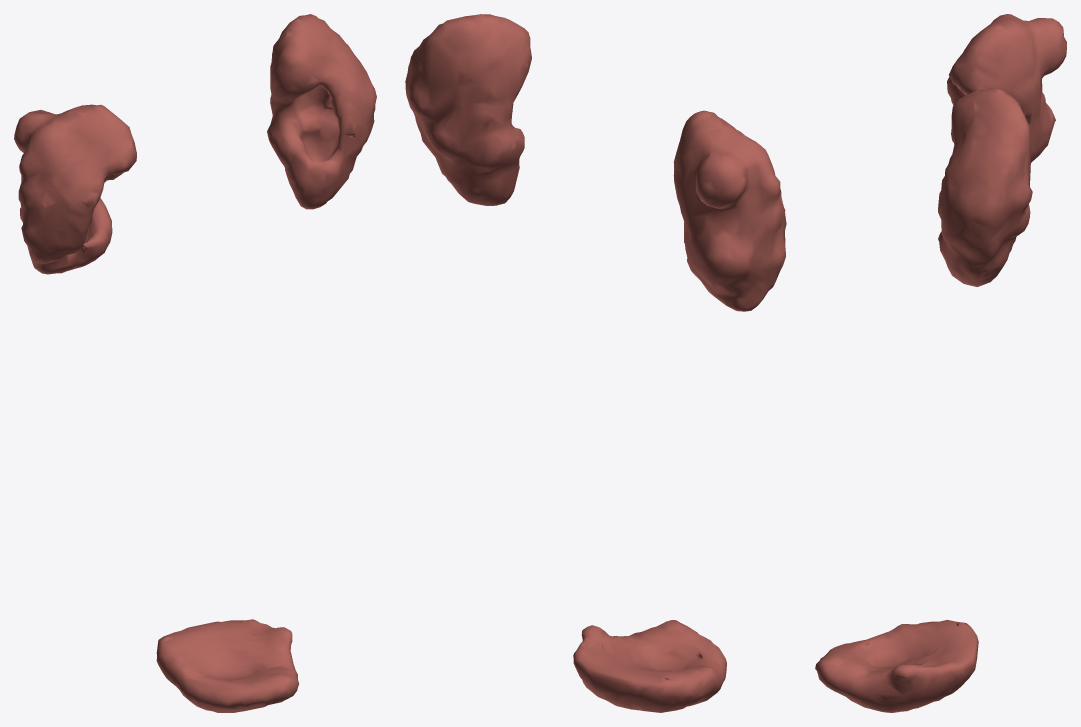
Rendered from tsd_s0327_older_adult_male.urinary.LOD2.glb.
3 views of the same model, side by side, from view 1: azimuth 30°, elevation 25°; view 2: azimuth 150°, elevation 25°; view 3: azimuth 270°, elevation 25° (orthographic). The views are drawn at different scales.
Visible parts, largest first — view 1: TSD_S0327.OLDER_ADULT.MALE.URINARY.KIDNEY.R, TSD_S0327.OLDER_ADULT.MALE.URINARY.KIDNEY.L, TSD_S0327.OLDER_ADULT.MALE.URINARY.URINARY_BLADDER; view 2: TSD_S0327.OLDER_ADULT.MALE.URINARY.KIDNEY.L, TSD_S0327.OLDER_ADULT.MALE.URINARY.KIDNEY.R, TSD_S0327.OLDER_ADULT.MALE.URINARY.URINARY_BLADDER; view 3: TSD_S0327.OLDER_ADULT.MALE.URINARY.KIDNEY.L, TSD_S0327.OLDER_ADULT.MALE.URINARY.URINARY_BLADDER, TSD_S0327.OLDER_ADULT.MALE.URINARY.KIDNEY.R.
Part boxes in pixels (x1,y1,x2,y2): TSD_S0327.OLDER_ADULT.MALE.URINARY.KIDNEY.R: [14, 104, 136, 274]; TSD_S0327.OLDER_ADULT.MALE.URINARY.KIDNEY.L: [267, 14, 376, 209]; TSD_S0327.OLDER_ADULT.MALE.URINARY.URINARY_BLADDER: [156, 619, 298, 712]; TSD_S0327.OLDER_ADULT.MALE.URINARY.KIDNEY.L: [405, 14, 531, 205]; TSD_S0327.OLDER_ADULT.MALE.URINARY.KIDNEY.R: [673, 110, 786, 311]; TSD_S0327.OLDER_ADULT.MALE.URINARY.URINARY_BLADDER: [573, 620, 726, 712]; TSD_S0327.OLDER_ADULT.MALE.URINARY.KIDNEY.L: [938, 88, 1032, 286]; TSD_S0327.OLDER_ADULT.MALE.URINARY.URINARY_BLADDER: [815, 620, 978, 712]; TSD_S0327.OLDER_ADULT.MALE.URINARY.KIDNEY.R: [947, 14, 1066, 162].
Size of the model in its own units: 0.1818 by 0.3167 by 0.1084.
